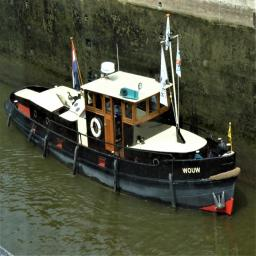tugboat: (3, 13, 243, 220)
